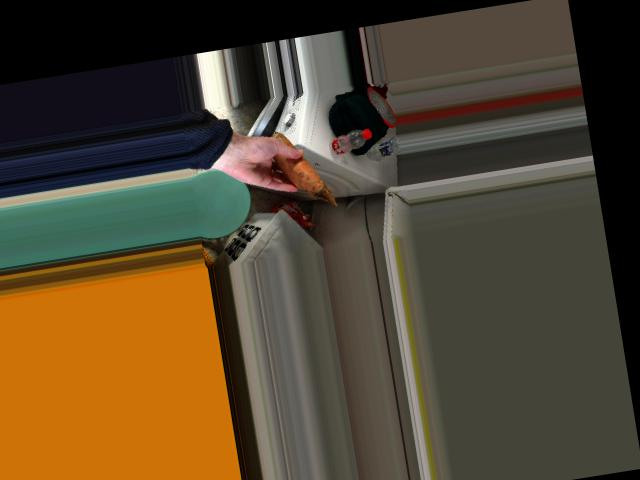sweet_potato: (273, 140, 324, 192)
